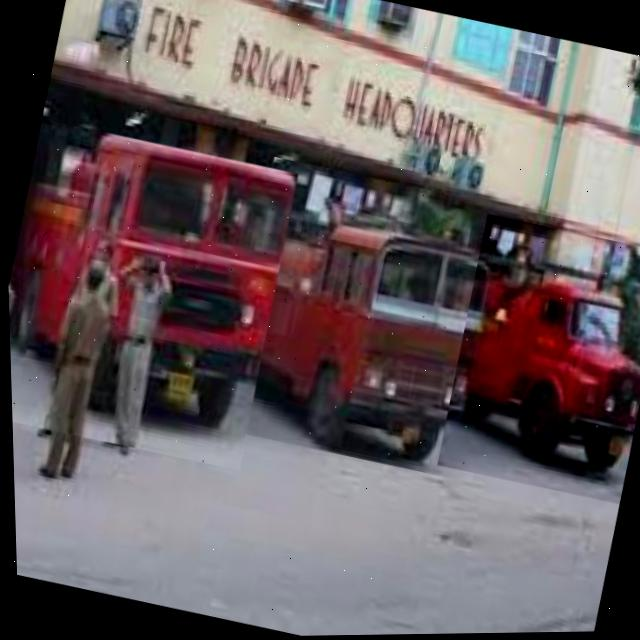Fire Truck: (3, 116, 304, 473), (210, 154, 530, 487), (427, 214, 640, 509)
